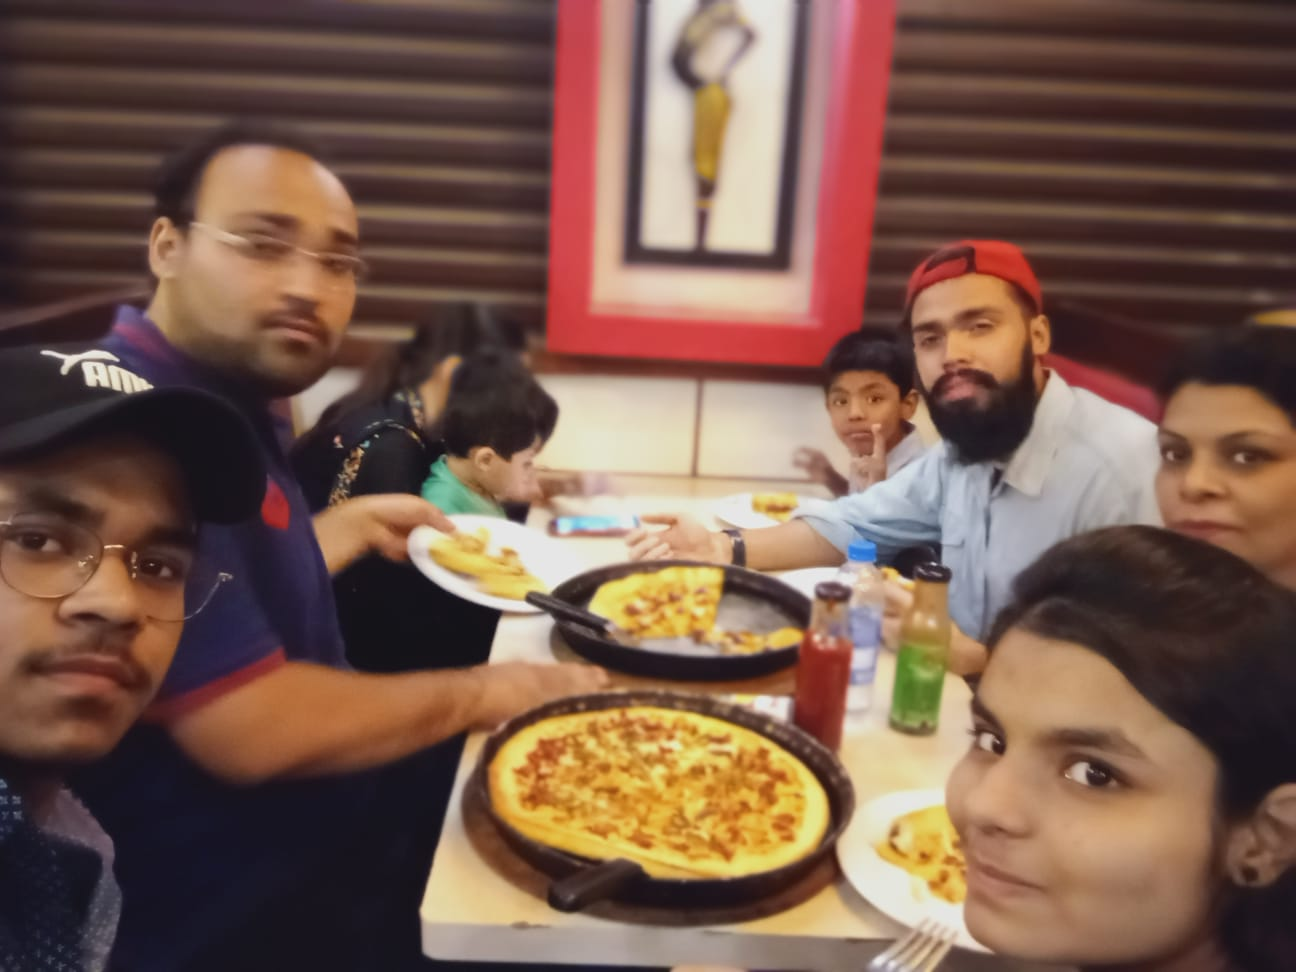NoMask: (950, 687, 1168, 966), (7, 482, 189, 764), (216, 201, 356, 378), (1158, 415, 1294, 564), (914, 300, 1023, 443), (825, 376, 894, 451)
